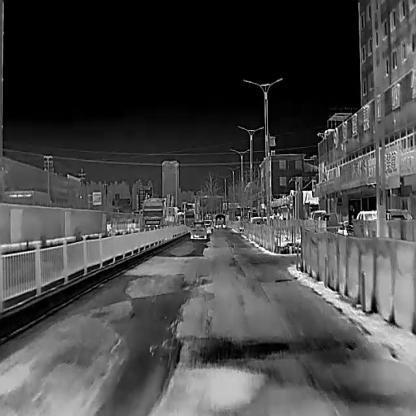car: (142, 198, 176, 229), (355, 210, 380, 237), (319, 213, 339, 234), (191, 220, 207, 240), (308, 209, 326, 221), (184, 209, 195, 226), (215, 214, 226, 228), (282, 213, 286, 231)
